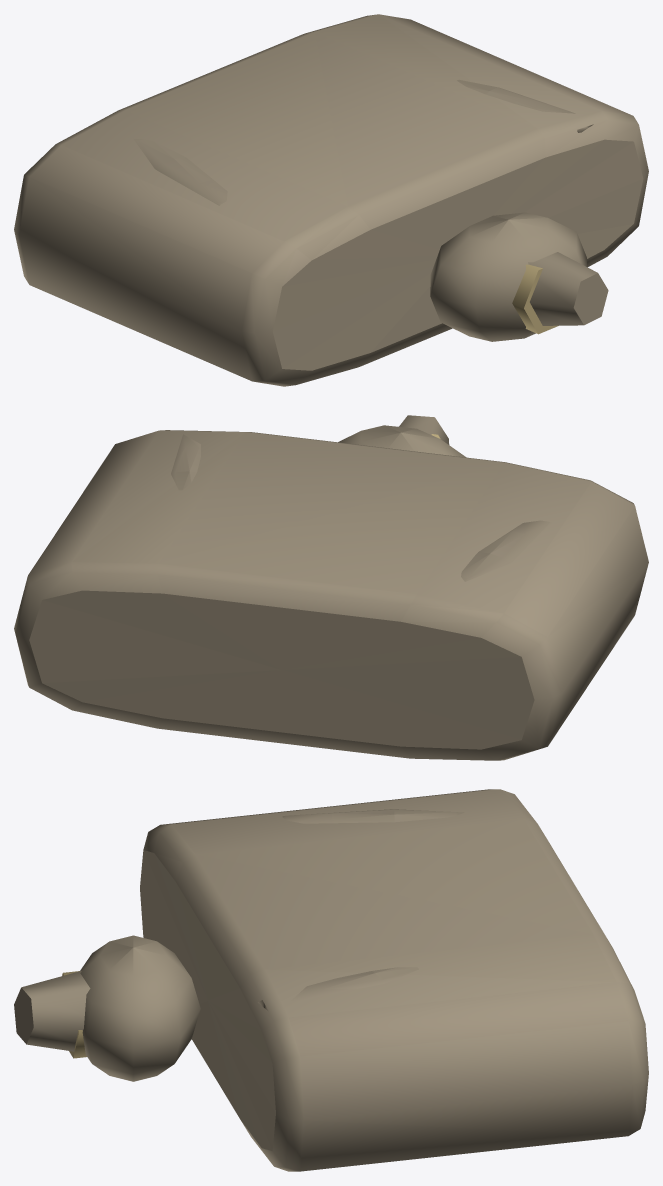
Rendered from storm_debris_sack_a.glb.
The picture shows the model from 3 angles, top to bottom: view 1: azimuth 30°, elevation 25°; view 2: azimuth 150°, elevation 25°; view 3: azimuth 270°, elevation 25°; orthographic projection. The views are drawn at different scales.
Visible parts, largest first — view 1: body; view 2: body; view 3: body.
Part boxes in pixels (bbox=[...]): body: bbox=[14, 14, 648, 386]; body: bbox=[14, 415, 648, 760]; body: bbox=[14, 789, 648, 1171].
Size of the model in its own units: 0.6878 by 0.1975 by 0.6599.
